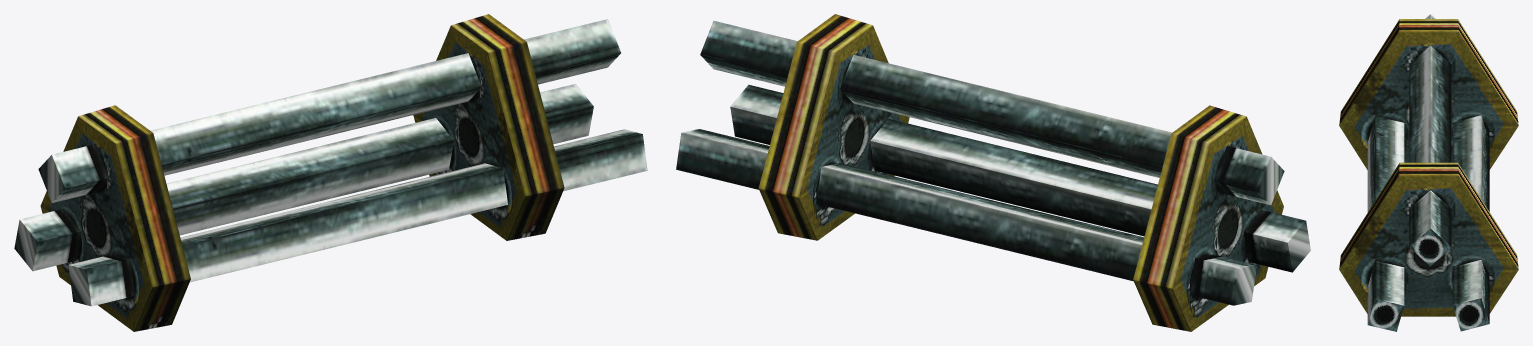
The model's file is gun01.FBX.
The picture shows the model from 3 angles, left to right: view 1: azimuth 30°, elevation 25°; view 2: azimuth 150°, elevation 25°; view 3: azimuth 270°, elevation 25°; orthographic projection. The views are drawn at different scales.
Visible parts, largest first — view 1: gun_01; view 2: gun_01; view 3: gun_01.
Boxes of the visible parts, bbox=[...] form: gun_01: bbox=[14, 14, 647, 331]; gun_01: bbox=[676, 14, 1310, 331]; gun_01: bbox=[1339, 14, 1518, 331].
Bounding box in the file's own units: 41.06 × 14.53 × 12.57.
Materials: 1 (1 with a texture image).
